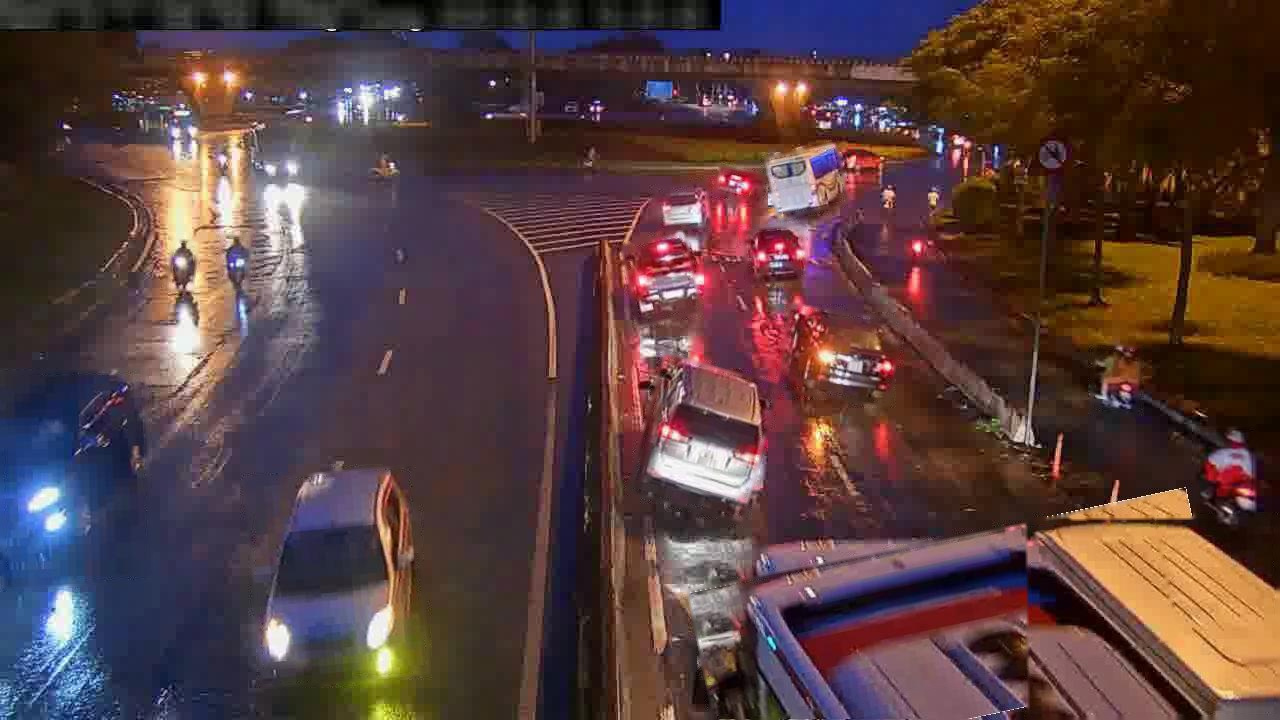Bus: (702, 529, 1185, 719), (1028, 519, 1279, 719)
Car: (258, 462, 415, 679), (0, 371, 147, 586), (640, 361, 766, 506), (789, 307, 895, 404), (629, 235, 704, 312), (749, 228, 806, 279), (661, 189, 709, 227), (716, 168, 761, 198)
Motorcyclist: (1198, 430, 1257, 527), (1095, 345, 1140, 409), (224, 236, 248, 292), (170, 240, 196, 291)
Truck: (764, 143, 843, 215)
